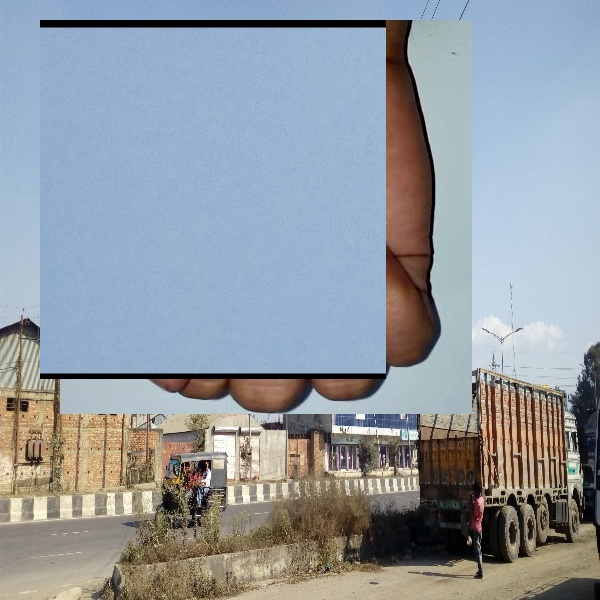A: (40, 20, 386, 379)
